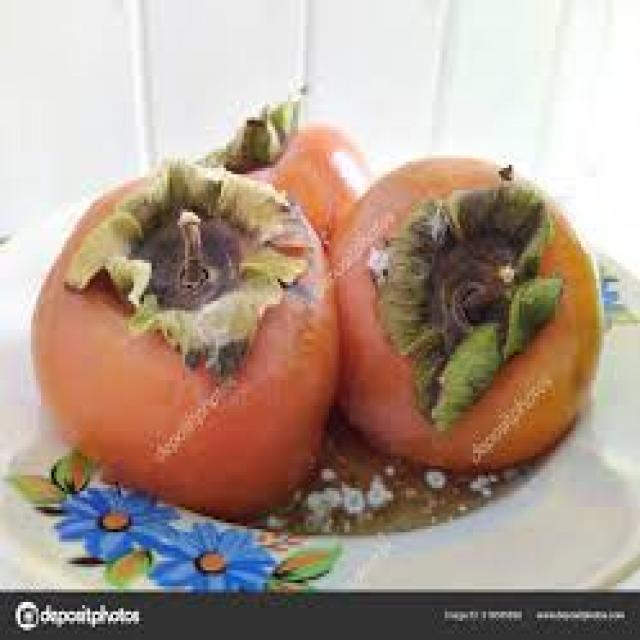organic waste: (31, 158, 337, 520), (326, 152, 604, 469), (190, 92, 368, 247)
